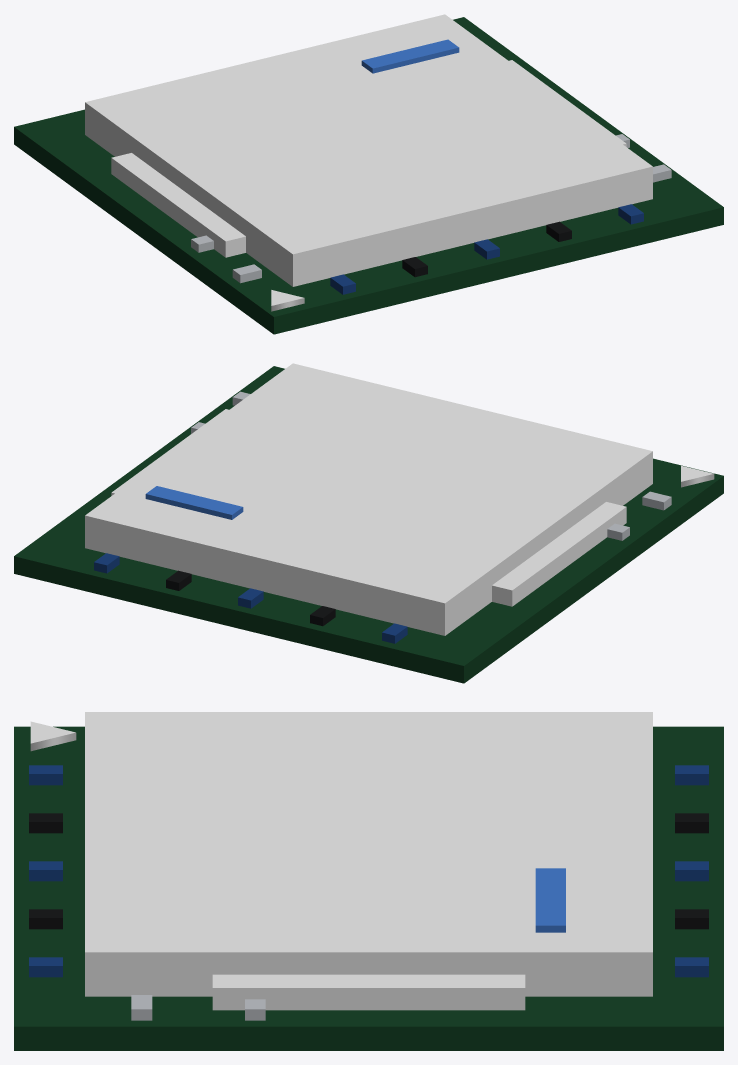
File: hw_cpu_celeron_2c.glb
3 renders of one model, top to bottom at view 1: azimuth 30°, elevation 25°; view 2: azimuth 150°, elevation 25°; view 3: azimuth 270°, elevation 25°, orthographic. The views are drawn at different scales.
Visible parts, largest first — view 1: Body; view 2: Body; view 3: Body.
Part boxes in pixels (x1,y1,x2,y2): Body: [14, 14, 723, 334]; Body: [14, 363, 723, 683]; Body: [14, 712, 723, 1050].
Size of the model in its own units: 0.0375 by 0.00467 by 0.0375.
